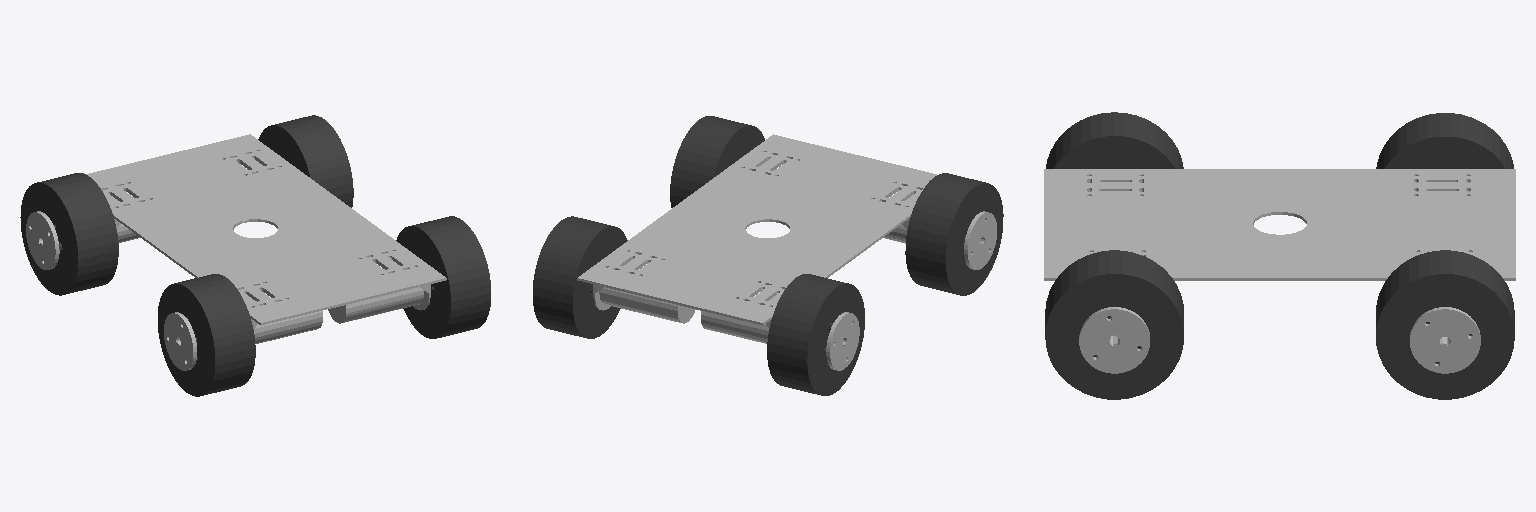
URDF robot description (msr):
<?xml version="1.0" encoding="utf-8"?>
<!-- This URDF was automatically created by SolidWorks to URDF Exporter! Originally created by [author] ([email redacted]) 
     Commit Version: 1.6.0-4-g7f85cfe  Build Version: 1.6.7995.38578
     For more information, please see http://wiki.ros.org/sw_urdf_exporter -->
<robot
  name="msr">
  <link
    name="base_link">
    <inertial>
      <origin
        xyz="-8.73669186858481E-18 1.44637171351933E-06 -0.0237637406117088"
        rpy="0 0 0" />
      <mass
        value="1.09205855733332" />
      <inertia
        ixx="0.00476506432987394"
        ixy="5.02153093549206E-07"
        ixz="-6.45628599175951E-21"
        iyy="0.00207697842824223"
        iyz="2.75344355502338E-19"
        izz="0.00661717269474077" />
    </inertial>
    <visual>
      <origin
        xyz="0 0 0"
        rpy="0 0 0" />
      <geometry>
        <mesh
          filename="package://msr/meshes/base_link.STL" />
      </geometry>
      <material
        name="">
        <color
          rgba="0.752941176470588 0.752941176470588 0.752941176470588 1" />
      </material>
    </visual>
    <collision>
      <origin
        xyz="0 0 0"
        rpy="0 0 0" />
      <geometry>
        <mesh
          filename="package://msr/meshes/base_link.STL" />
      </geometry>
    </collision>
  </link>
  <link
    name="front_left">
    <inertial>
      <origin
        xyz="2.42861286636753E-17 2.77555756156289E-17 -0.0255525062351154"
        rpy="0 0 0" />
      <mass
        value="0.628243917892436" />
      <inertia
        ixx="0.000786474602916463"
        ixy="5.42101086242752E-20"
        ixz="2.164642910193E-19"
        iyy="0.000786474602916463"
        iyz="-1.79242202977043E-19"
        izz="0.00129926747138072" />
    </inertial>
    <visual>
      <origin
        xyz="0 0 0"
        rpy="0 0 0" />
      <geometry>
        <mesh
          filename="package://msr/meshes/front_left.STL" />
      </geometry>
      <material
        name="">
        <color
          rgba="0.298039215686275 0.298039215686275 0.298039215686275 1" />
      </material>
    </visual>
    <collision>
      <origin
        xyz="0 0 0"
        rpy="0 0 0" />
      <geometry>
        <mesh
          filename="package://msr/meshes/front_left.STL" />
      </geometry>
    </collision>
  </link>
  <joint
    name="front_left_joint"
    type="continuous">
    <origin
      xyz="0.1235 -0.150886832667511 -0.033"
      rpy="1.5707963267949 -1.17899991460539 -1.5707963267949" />
    <parent
      link="base_link" />
    <child
      link="front_left" />
    <axis
      xyz="0 0 1" />
  </joint>
  <link
    name="front_right">
    <inertial>
      <origin
        xyz="-5.55111512312578E-17 -4.16333634234434E-17 -0.0255525062351155"
        rpy="0 0 0" />
      <mass
        value="0.628243917892436" />
      <inertia
        ixx="0.000786474602916463"
        ixy="1.0842021724855E-19"
        ixz="2.72172913425544E-20"
        iyy="0.000786474602916463"
        iyz="1.1686798084033E-20"
        izz="0.00129926747138073" />
    </inertial>
    <visual>
      <origin
        xyz="0 0 0"
        rpy="0 0 0" />
      <geometry>
        <mesh
          filename="package://msr/meshes/front_right.STL" />
      </geometry>
      <material
        name="">
        <color
          rgba="0.298039215686275 0.298039215686275 0.298039215686275 1" />
      </material>
    </visual>
    <collision>
      <origin
        xyz="0 0 0"
        rpy="0 0 0" />
      <geometry>
        <mesh
          filename="package://msr/meshes/front_right.STL" />
      </geometry>
    </collision>
  </link>
  <joint
    name="front_right_joint"
    type="continuous">
    <origin
      xyz="-0.1235 -0.150886832667511 -0.033"
      rpy="-1.5707963267949 0.591943593015272 -1.5707963267949" />
    <parent
      link="base_link" />
    <child
      link="front_right" />
    <axis
      xyz="0 0 1" />
  </joint>
  <link
    name="back_left">
    <inertial>
      <origin
        xyz="-5.55111512312578E-17 -5.55111512312578E-17 -0.0255525062351154"
        rpy="0 0 0" />
      <mass
        value="0.628243917892436" />
      <inertia
        ixx="0.000786474602916463"
        ixy="5.42101086242752E-20"
        ixz="2.16447257019058E-19"
        iyy="0.000786474602916463"
        iyz="-1.79196690336017E-19"
        izz="0.00129926747138072" />
    </inertial>
    <visual>
      <origin
        xyz="0 0 0"
        rpy="0 0 0" />
      <geometry>
        <mesh
          filename="package://msr/meshes/back_left.STL" />
      </geometry>
      <material
        name="">
        <color
          rgba="0.298039215686275 0.298039215686275 0.298039215686275 1" />
      </material>
    </visual>
    <collision>
      <origin
        xyz="0 0 0"
        rpy="0 0 0" />
      <geometry>
        <mesh
          filename="package://msr/meshes/back_left.STL" />
      </geometry>
    </collision>
  </link>
  <joint
    name="back_left_joint"
    type="continuous">
    <origin
      xyz="0.1235 0.150886832667511 -0.033"
      rpy="1.5707963267949 -1.17899991460539 -1.5707963267949" />
    <parent
      link="base_link" />
    <child
      link="back_left" />
    <axis
      xyz="0 0 1" />
  </joint>
  <link
    name="back_right">
    <inertial>
      <origin
        xyz="-2.77555756156289E-17 -4.85722573273506E-17 -0.0255525062351155"
        rpy="0 0 0" />
      <mass
        value="0.628243917892436" />
      <inertia
        ixx="0.000786474602916463"
        ixy="-1.6978154312681E-20"
        ixz="2.40982361339356E-20"
        iyy="0.000786474602916463"
        iyz="-5.86290186749809E-20"
        izz="0.00129926747138072" />
    </inertial>
    <visual>
      <origin
        xyz="0 0 0"
        rpy="0 0 0" />
      <geometry>
        <mesh
          filename="package://msr/meshes/back_right.STL" />
      </geometry>
      <material
        name="">
        <color
          rgba="0.298039215686275 0.298039215686275 0.298039215686275 1" />
      </material>
    </visual>
    <collision>
      <origin
        xyz="0 0 0"
        rpy="0 0 0" />
      <geometry>
        <mesh
          filename="package://msr/meshes/back_right.STL" />
      </geometry>
    </collision>
  </link>
  <joint
    name="back_right_joint"
    type="continuous">
    <origin
      xyz="-0.1225 0.150886832667511 -0.033"
      rpy="-1.5707963267949 0 -1.5707963267949" />
    <parent
      link="base_link" />
    <child
      link="back_right" />
    <axis
      xyz="0 0 1" />
  </joint>
</robot>

--- What the picture shows (computed from the rendered views, not written in the file) ---
The picture shows the robot from 3 angles, left to right: view 1: azimuth 30°, elevation 25°; view 2: azimuth 150°, elevation 25°; view 3: azimuth 270°, elevation 25°; orthographic projection.
Robot: msr — 5 links, 4 joints (4 continuous); root link base_link; default pose: every joint at zero.
Links seen in each view (by area): view 1: base_link, front_right, back_right, front_left, back_left; view 2: base_link, front_right, back_right, back_left, front_left; view 3: base_link, front_left, back_left, front_right, back_right.
Boxes of the visible links, x1,y1,x2,y2 form: base_link: (26,134,446,370); front_right: (158,274,255,396); back_right: (20,173,118,295); front_left: (396,216,490,338); back_left: (258,115,353,207); base_link: (577,134,996,370); front_right: (905,173,1003,295); back_right: (767,274,864,395); back_left: (533,216,627,338); front_left: (670,116,764,207); base_link: (1044,169,1515,373); front_left: (1045,250,1183,399); back_left: (1376,250,1514,399); front_right: (1046,112,1183,168); back_right: (1376,113,1513,168).
Size in the robot's own frame: 0.369 by 0.43 by 0.127 metres.
5 mesh visuals loaded from 5 distinct referenced files (5 binary STL).